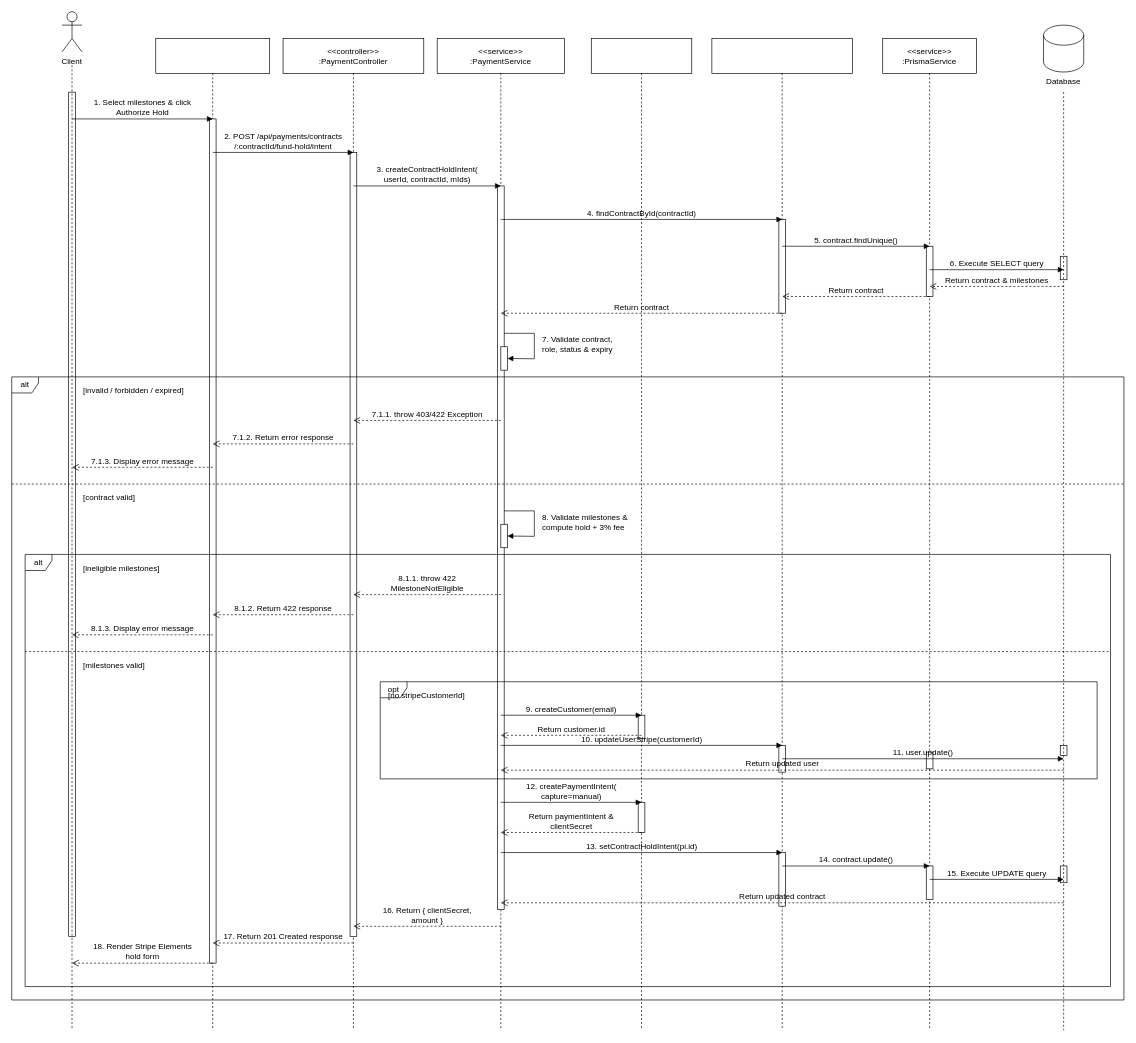
Image size: 1136x1043. Some labels were removed from this diagram. The box of each missing label's shape, as (x1, y1, x2, y2) in pixels:
<<boundary>> ContractEscrowModal: (155, 38, 270, 1030)
<<repository>> :PaymentRepository: (711, 38, 853, 1030)
<<service>> :StripeService: (591, 38, 692, 1030)
